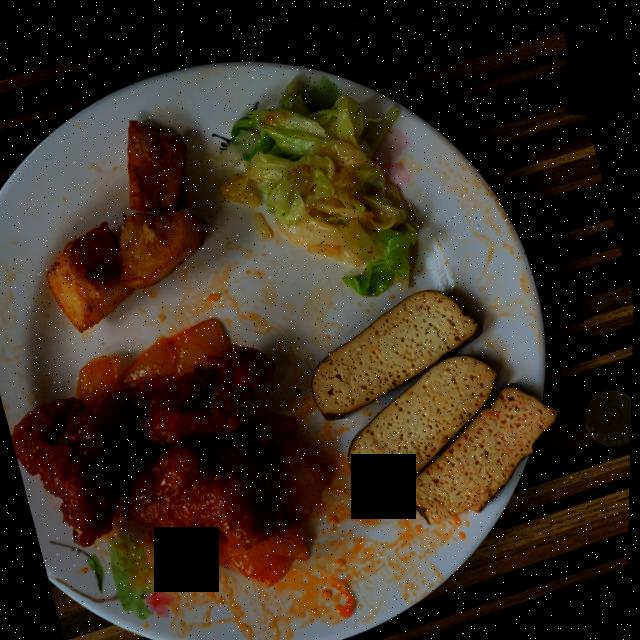cabbage: (215, 80, 418, 292)
coin: (586, 383, 633, 441)
firm tofu: (313, 285, 559, 518)
fried potato: (47, 118, 207, 329)
